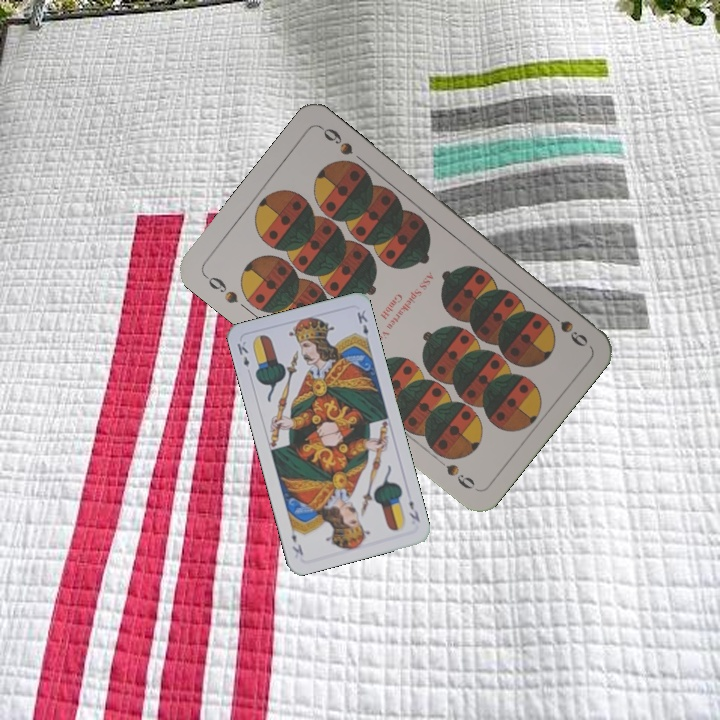EK: (233, 337, 252, 370), (405, 496, 423, 524)
S9: (541, 306, 591, 350), (199, 270, 241, 306)
